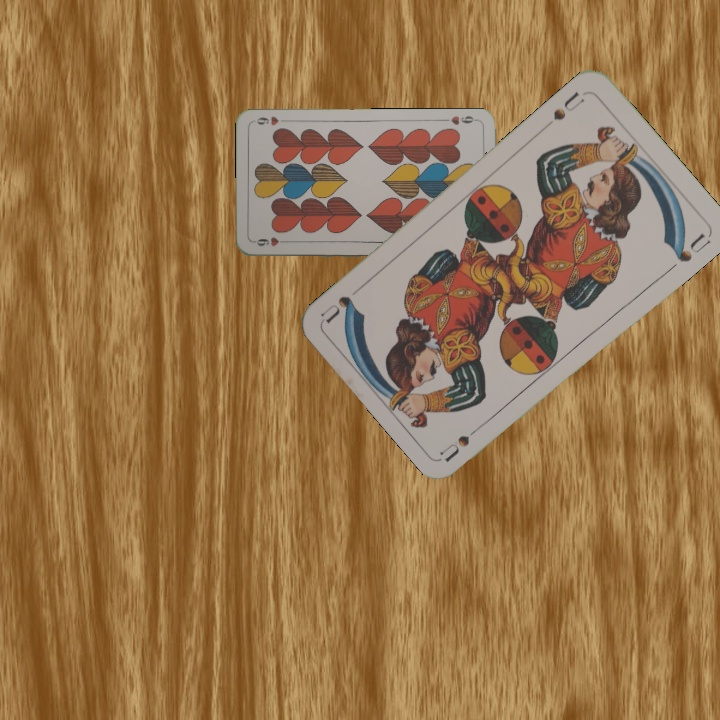H9: (251, 233, 291, 249), (439, 111, 479, 127)
SU: (437, 417, 489, 463), (549, 87, 588, 123)
